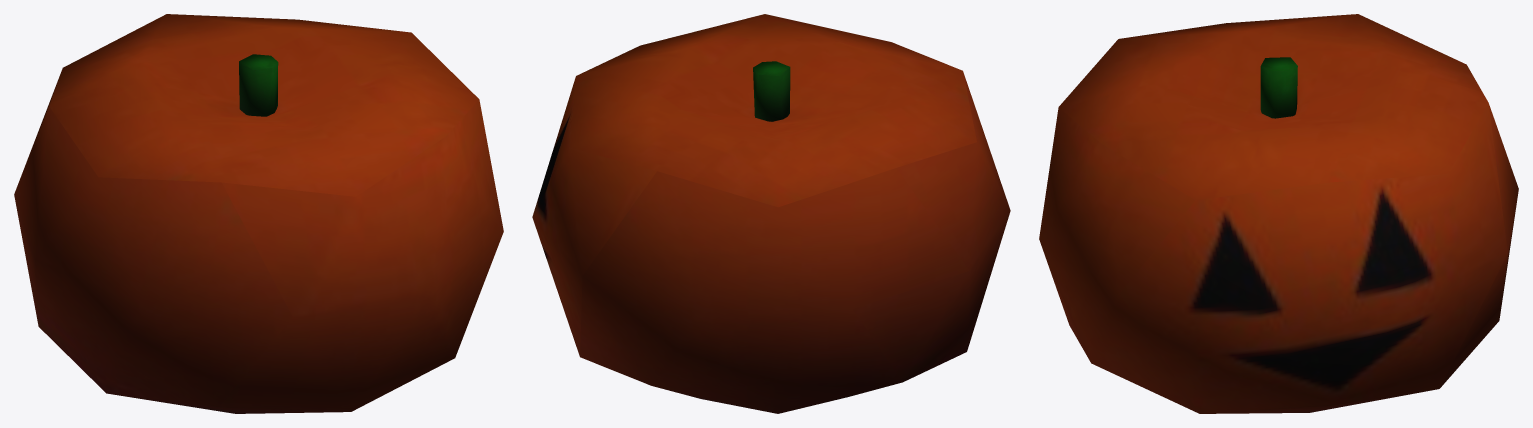
File: mask-pumkin2.dae
3 renders of one model, left to right at view 1: azimuth 30°, elevation 25°; view 2: azimuth 150°, elevation 25°; view 3: azimuth 270°, elevation 25°, orthographic. The views are drawn at different scales.
Visible parts, largest first — view 1: Icosphere; view 2: Icosphere; view 3: Icosphere.
Boxes of the visible parts, bbox=[...] form: Icosphere: bbox=[14, 14, 503, 413]; Icosphere: bbox=[532, 14, 1010, 413]; Icosphere: bbox=[1039, 14, 1518, 413].
Bounding box in the file's own units: 0.2201 × 0.2142 × 0.1491.
1 material, 1 textured.
